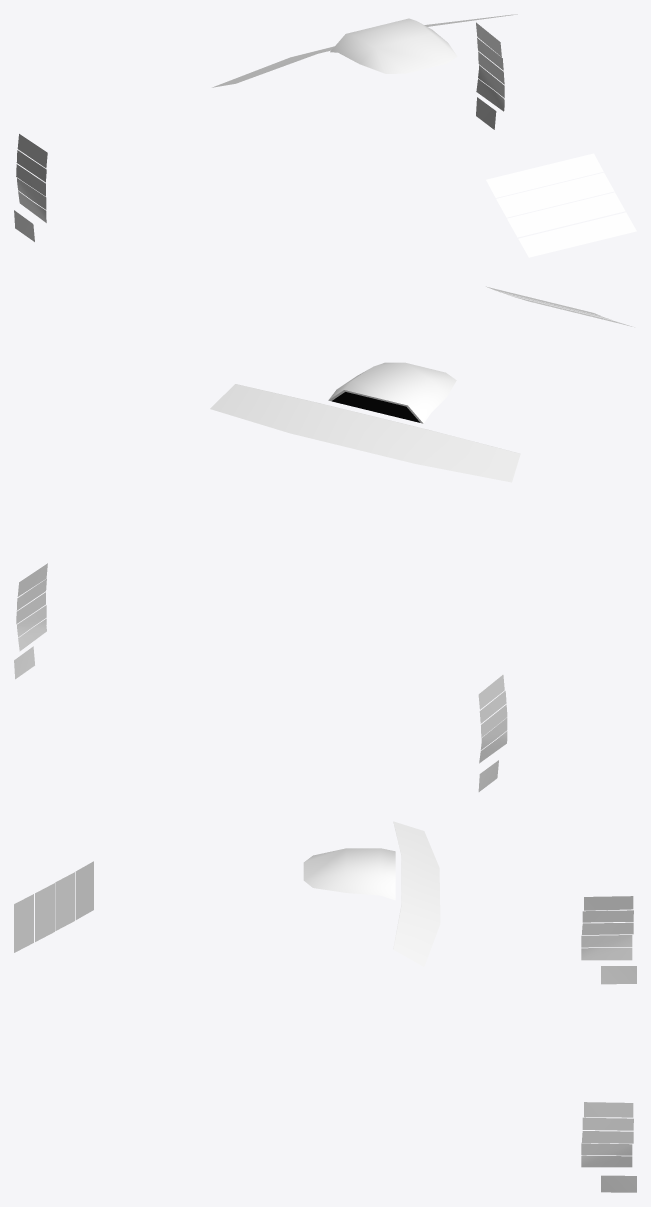
3 renders of one model, top to bottom at view 1: azimuth 30°, elevation 25°; view 2: azimuth 150°, elevation 25°; view 3: azimuth 270°, elevation 25°, orthographic. The views are drawn at different scales.
Parts seen in each view (by area): view 1: rf_a_l; view 2: rf_a_l; view 3: rf_a_l.
Part boxes in pixels (x1,y1,x2,y2): rf_a_l: (14, 14, 636, 257); rf_a_l: (14, 286, 634, 791); rf_a_l: (14, 821, 636, 1192).
Size of the model in its own units: 2.08 by 1.06 by 2.61.
Materials: 3 (3 with a texture image).
